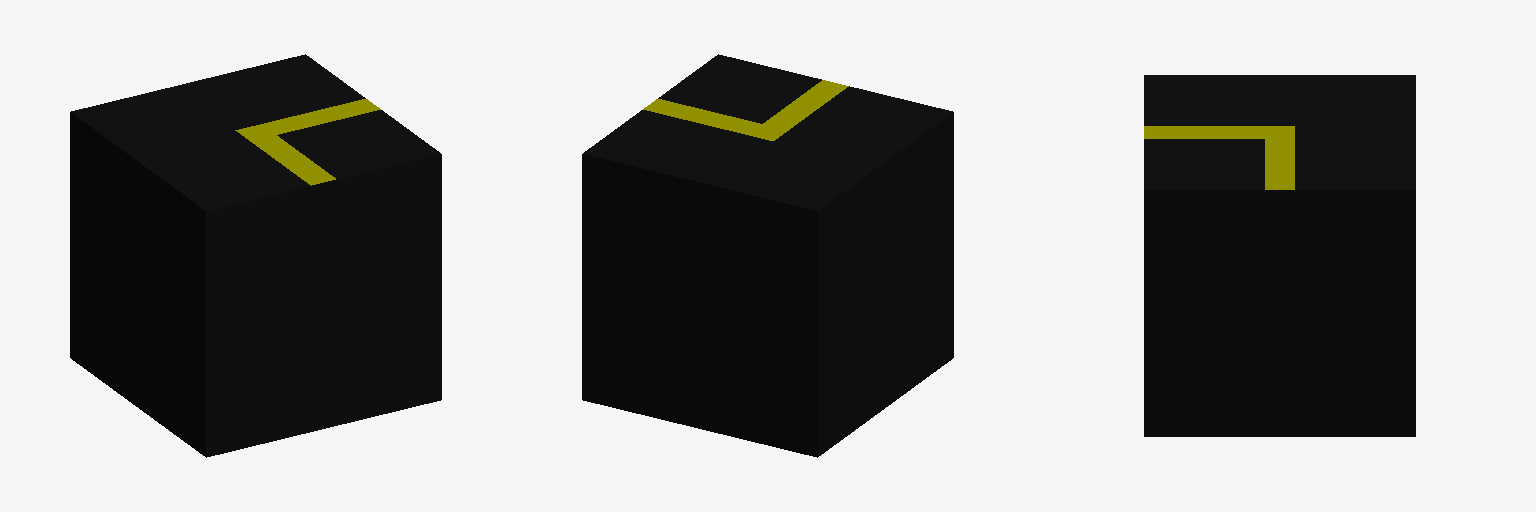
The model's file is StreetCubeTurn.obj.
The picture shows the model from 3 angles: view 1: azimuth 30°, elevation 25°; view 2: azimuth 150°, elevation 25°; view 3: azimuth 270°, elevation 25°; orthographic projection.
Parts seen in each view (by area): view 1: Cube; view 2: Cube; view 3: Cube.
Part boxes in pixels (x1,y1,x2,y2): Cube: (70, 54, 441, 457); Cube: (582, 54, 953, 457); Cube: (1144, 75, 1415, 436).
Size of the model in its own units: 2 by 2 by 2.